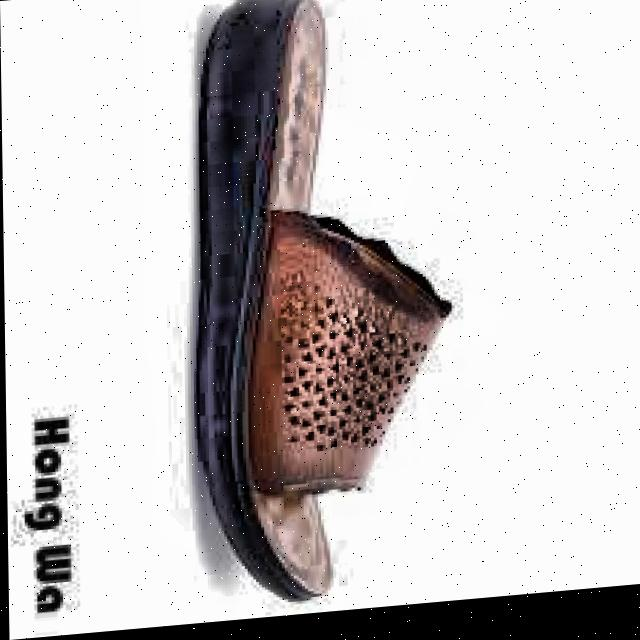shoes: (28, 0, 460, 623)
